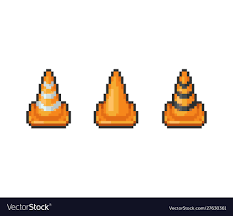cones: (23, 69, 72, 129), (90, 69, 138, 128), (161, 68, 207, 129)
